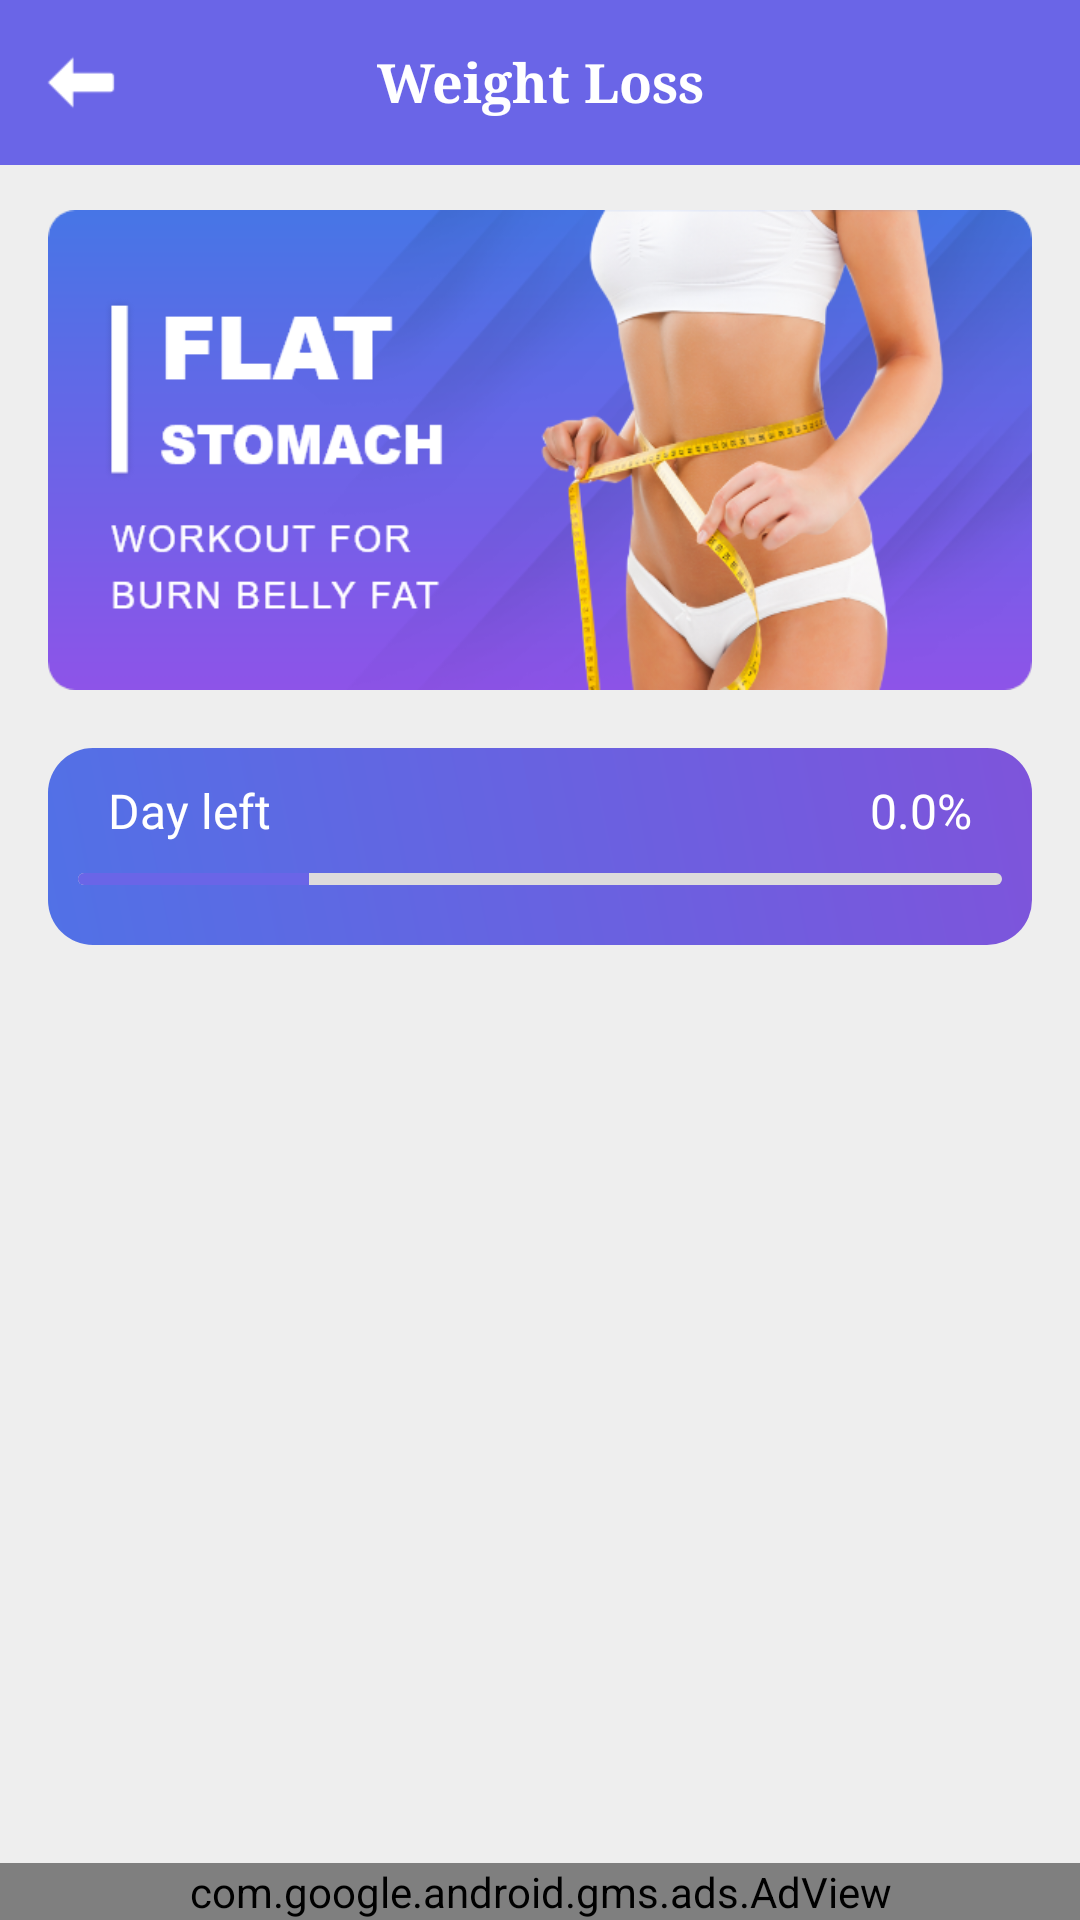

Screen size 1080*1920. Icon name, then its center in pixels as [x,y]:
left arrow: [81,82]
